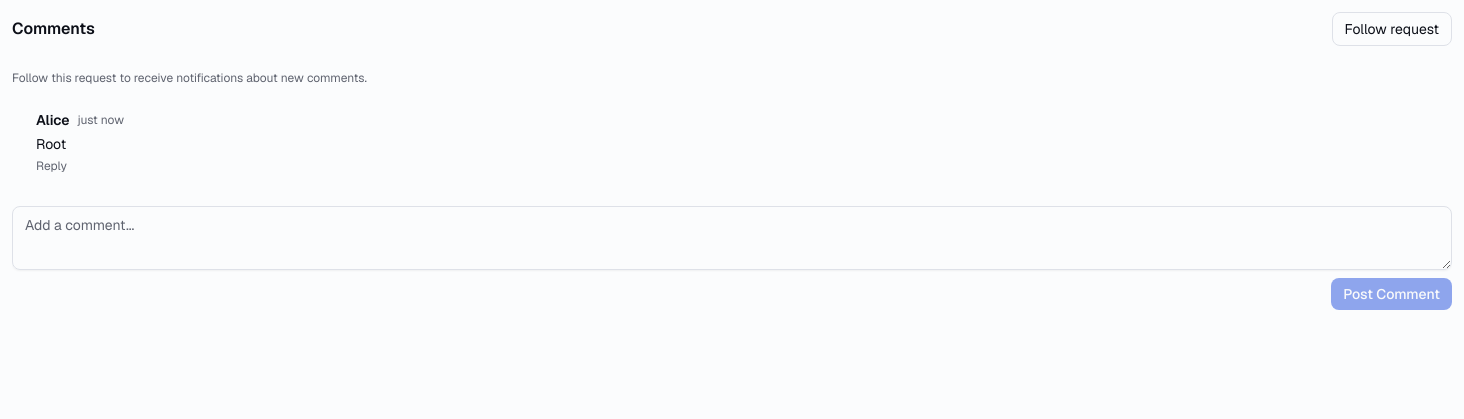
Test case: CommentThread › reply input › should reveal a reply textarea when Reply is clicked
This screenshot has width=1464, height=419.
What coordinates should you click on to do the following:
click the button "Reply"
I would click on:
 (52, 166)
Its box is [36,158,67,174].
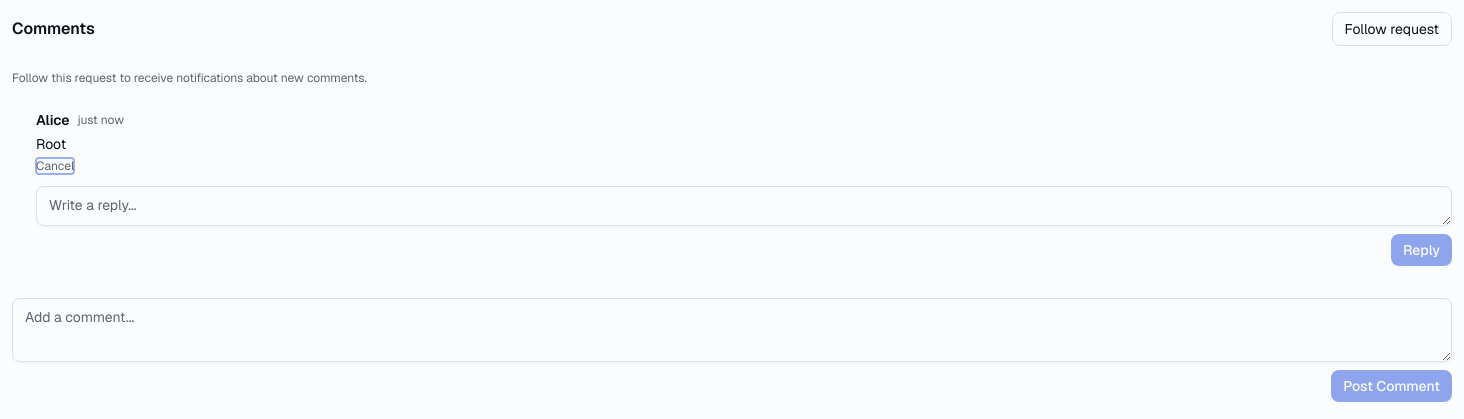
expect the text box with placeholder "Write a reply..." is shown: met, box [36,186,1452,226]
